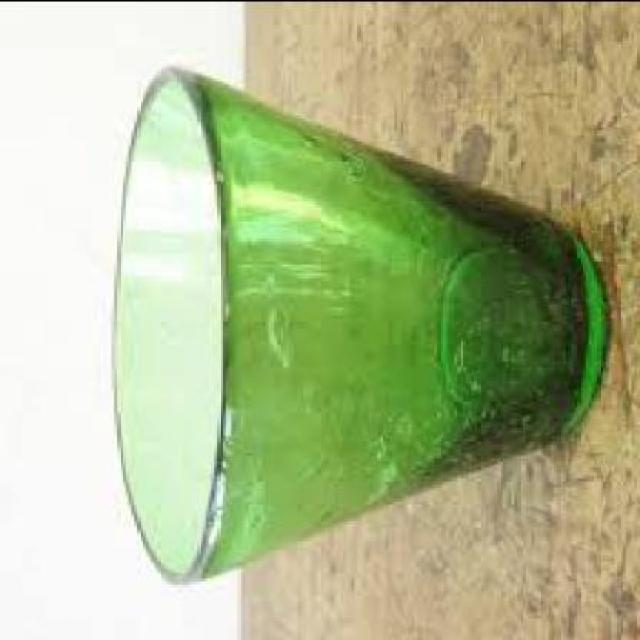GLASS: (111, 72, 608, 586)
